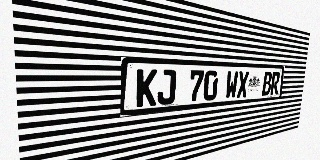0: (203, 70, 218, 101)
7: (188, 70, 204, 102)
B: (262, 72, 272, 96)
J: (157, 69, 176, 105)
K: (136, 69, 157, 107)
R: (270, 72, 280, 95)
W: (225, 71, 238, 99)
X: (236, 71, 249, 98)
